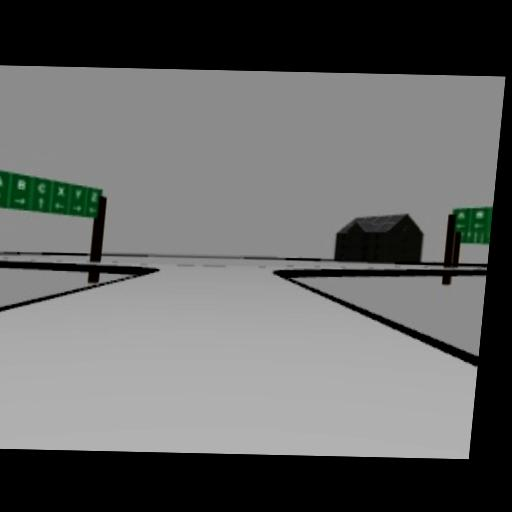A: (0, 174, 3, 184)
B: (15, 177, 26, 189)
C: (35, 180, 45, 192)
Left: (53, 199, 64, 208), (87, 204, 95, 213)
Right: (72, 202, 82, 211), (14, 195, 24, 202)
Straight: (36, 196, 44, 206), (0, 189, 1, 201)
X: (56, 185, 64, 195)
Y: (74, 188, 82, 197)
Z: (88, 190, 98, 201)
